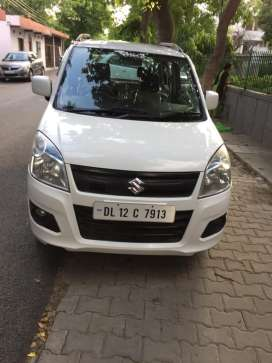license_plate: (94, 201, 175, 221)
